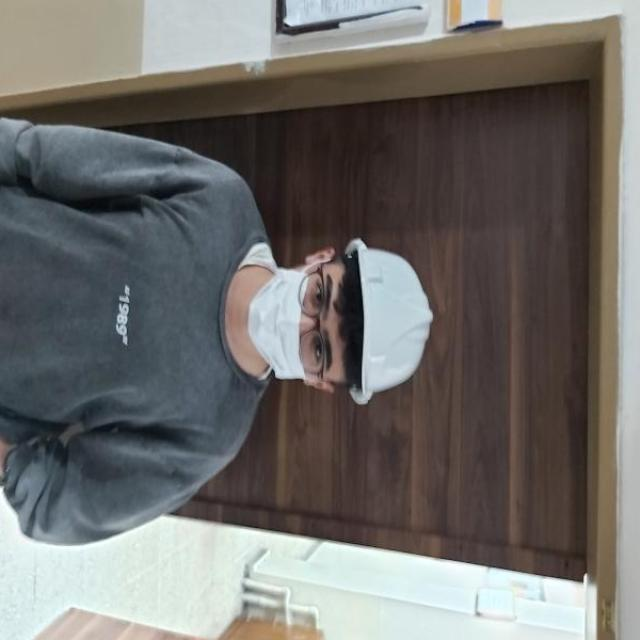helmet: (341, 237, 433, 405)
